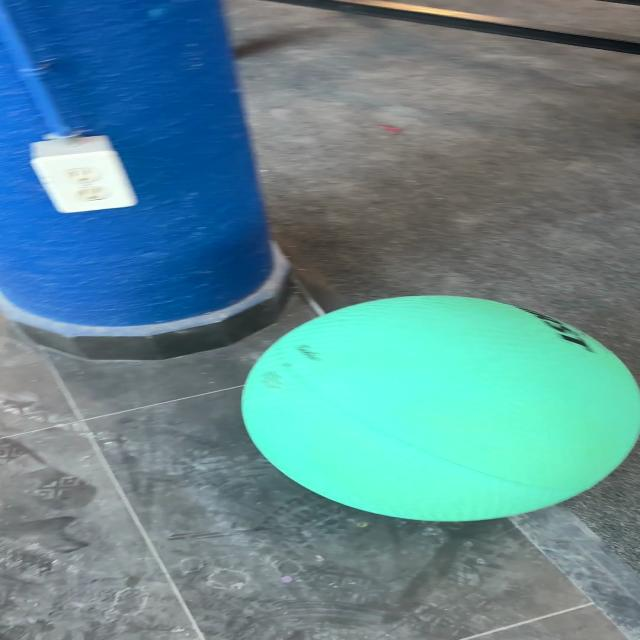Algae: (239, 293, 638, 523)
